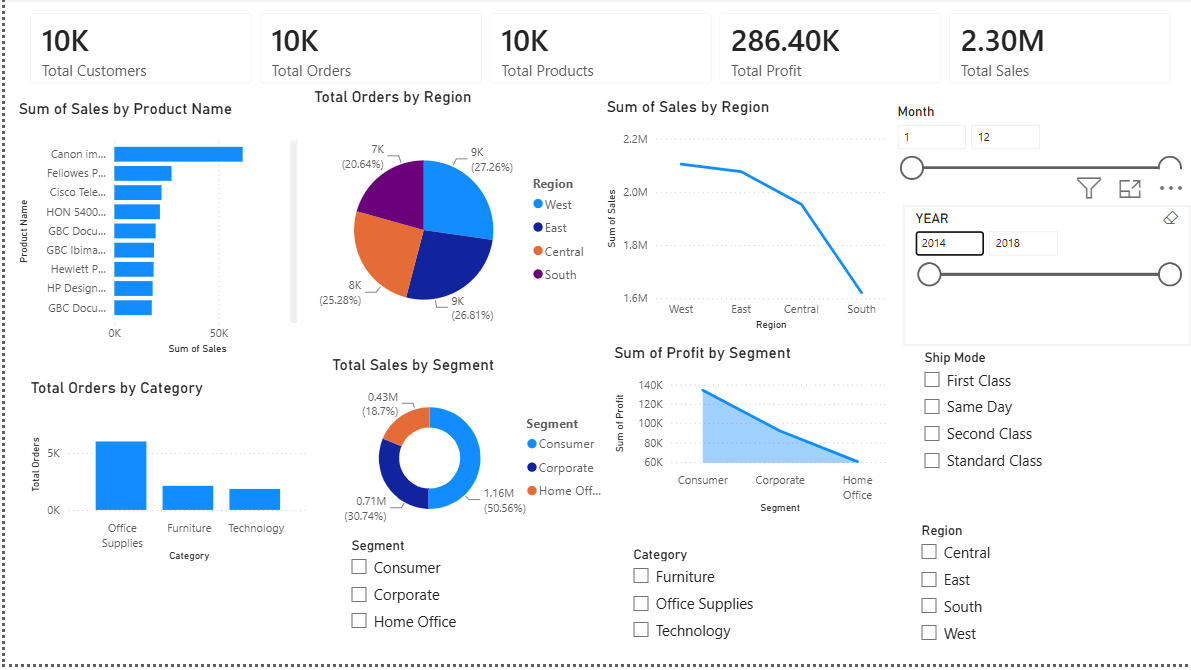

What the dashboard file says about the page in this screenshot:
{"tool":"powerbi","page":{"name":"Page 1","canvas":[1280,720],"ordinal":0},"visuals":[{"type":"cardVisual","fields":{"Data":["Fact Sales.Total Customers","Fact Sales.Total Orders","Fact Sales.Total Products","Fact Sales.Total Profit","Fact Sales.Total Sales"]},"box":[9.7,0,1269.5,110.1],"z":0},{"type":"barChart","fields":{"Y":["Sum(Fact Sales.Sales)"],"Category":["Dim Product.Product Name"]},"box":[9.7,110.1,310.9,280.1],"z":1000},{"type":"pieChart","fields":{"Y":["Fact Sales.Total Orders"],"Category":["Dim Customer.Region"]},"box":[328.7,97.2,310.9,278.5],"z":2000},{"type":"lineChart","fields":{"Y":["Sum(Fact Sales.Sales)"],"Category":["Dim Customer.Region"]},"box":[644.5,108.5,310.9,255.8],"z":3000},{"type":"columnChart","fields":{"Y":["Fact Sales.Total Orders"],"Category":["Dim Product.Category"]},"box":[22.7,411.3,310.9,202.4],"z":4000},{"type":"donutChart","fields":{"Y":["Fact Sales.Total Sales"],"Category":["Dim Customer.Segment"]},"box":[348.1,387,310.9,191.1],"z":5000},{"type":"stackedAreaChart","fields":{"Y":["Sum(Fact Sales.Profit)"],"Category":["Dim Customer.Segment"]},"box":[652.5,374,310.9,187.8],"z":6000},{"type":"slicer","fields":{"Values":["Dim Customer.Region"]},"box":[976.4,561.9,297.9,144.1],"z":7000},{"type":"slicer","fields":{"Values":["Dim Customer.Segment"]},"box":[361.1,578.1,297.9,142.5],"z":8000},{"type":"slicer","fields":{"Values":["Dim Product.Category"]},"box":[665.5,587.8,297.9,118.2],"z":9000},{"type":"slicer","fields":{"Values":["Fact Sales.Ship Mode"]},"box":[979.6,375.7,299.6,149],"z":10000},{"type":"slicer","fields":{"Values":["Dim Calendar.Month"]},"box":[950.5,110.1,328,150],"z":11000},{"type":"slicer","fields":{"Values":["Dim Calendar.YEAR"]},"box":[969.9,225.1,309.3,150.6],"z":12000}]}

Visuals, with their boxes in screenshot pixels (x1, y1, x2, y2), scaled from the page's 1280x720 canvas onto the 1191x670 screenshot:
cardVisual - Fact Sales.Total Customers x Fact Sales.Total Orders: bbox=[9, 0, 1190, 102]
barChart - Sum(Fact Sales.Sales) x Dim Product.Product Name: bbox=[9, 102, 298, 363]
pieChart - Fact Sales.Total Orders x Dim Customer.Region: bbox=[306, 90, 595, 350]
lineChart - Sum(Fact Sales.Sales) x Dim Customer.Region: bbox=[600, 101, 889, 339]
columnChart - Fact Sales.Total Orders x Dim Product.Category: bbox=[21, 383, 310, 571]
donutChart - Fact Sales.Total Sales x Dim Customer.Segment: bbox=[324, 360, 613, 538]
stackedAreaChart - Sum(Fact Sales.Profit) x Dim Customer.Segment: bbox=[607, 348, 896, 523]
slicer - Dim Customer.Region: bbox=[909, 523, 1186, 657]
slicer - Dim Customer.Segment: bbox=[336, 538, 613, 669]
slicer - Dim Product.Category: bbox=[619, 547, 896, 657]
slicer - Fact Sales.Ship Mode: bbox=[911, 350, 1190, 488]
slicer - Dim Calendar.Month: bbox=[884, 102, 1190, 242]
slicer - Dim Calendar.YEAR: bbox=[902, 209, 1190, 350]
